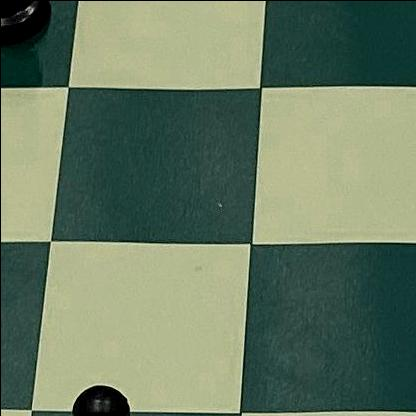black-pawn: (41, 358, 198, 416)
